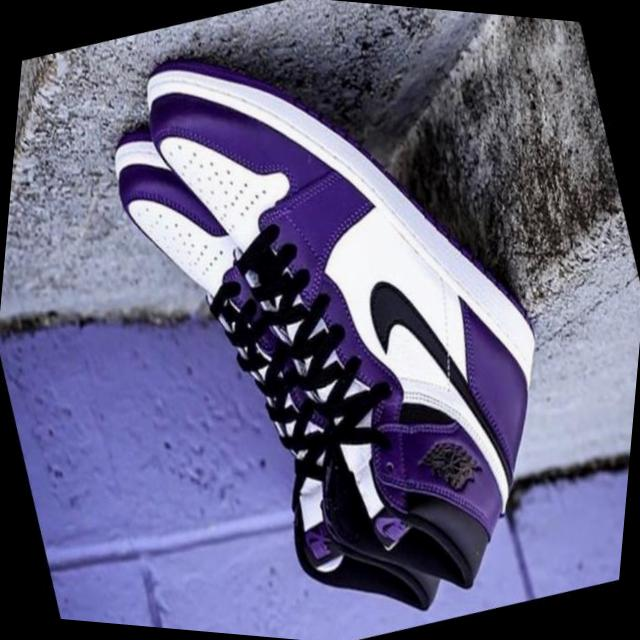nike_original_jordan: (88, 0, 637, 640), (63, 65, 500, 640)
